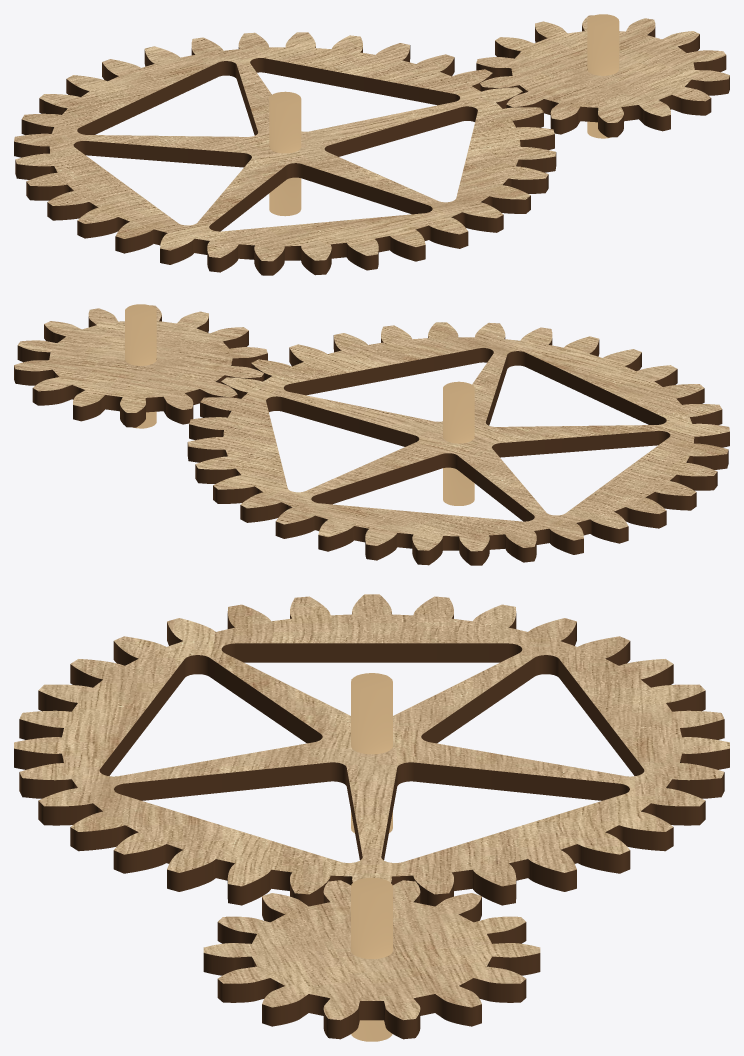
The model's file is gears.glb.
3 renders of one model, top to bottom at view 1: azimuth 30°, elevation 25°; view 2: azimuth 150°, elevation 25°; view 3: azimuth 270°, elevation 25°, orthographic. The views are drawn at different scales.
Parts seen in each view (by area): view 1: body0, body1, pin0, pin1; view 2: body0, body1, pin0, pin1; view 3: body0, body1, pin1, pin0.
Part boxes in pixels (x1,y1,x2,y2): body0: (14,32,556,275); body1: (476,15,729,137); pin0: (269,91,301,216); pin1: (587,14,619,138); body0: (187,322,729,565); body1: (14,305,267,427); pin0: (443,381,474,505); pin1: (125,304,156,428); body0: (14,594,729,906); body1: (203,880,540,1039); pin1: (351,877,392,1041); pin0: (351,673,392,833).
Bounding box in the file's own units: 0.1436 × 0.023 × 0.102.
3 materials, 1 textured.
